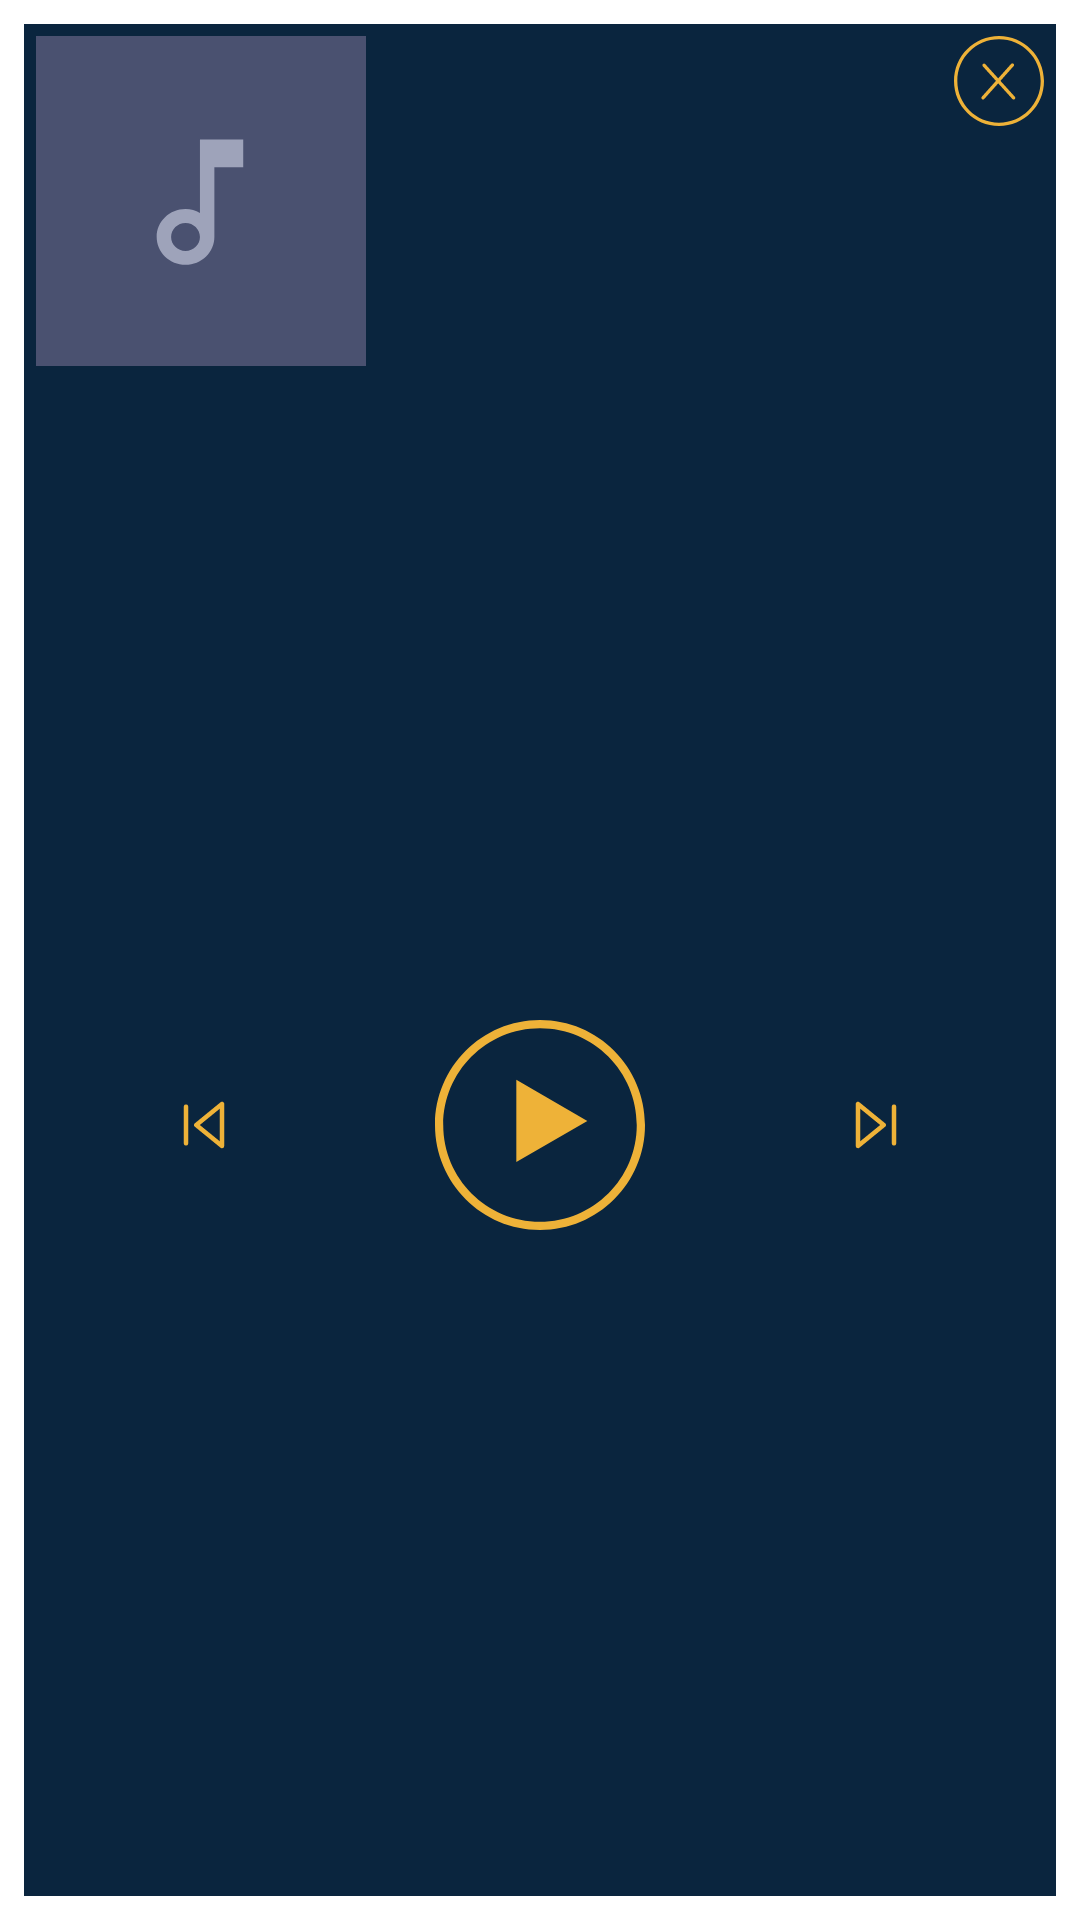

Screen size 1080px x 1920px. Icon name, then its center in pixels as (x=x, y=y):
close: (x=999, y=81)
next: (x=876, y=1125)
play: (x=540, y=1125)
pre: (x=204, y=1125)
